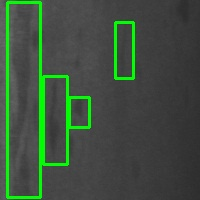inclusion: (7, 2, 40, 197), (43, 76, 67, 164), (115, 23, 133, 78), (69, 97, 89, 127)
